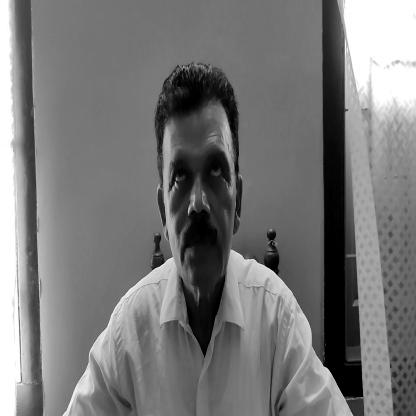Normal: (150, 66, 242, 294)
